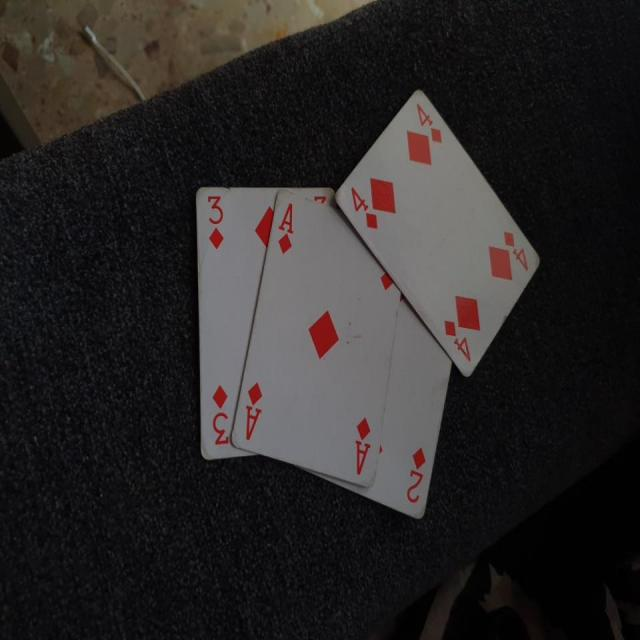2 Diamonds: (354, 298, 463, 525)
3 Diamonds: (191, 183, 342, 464)
4 Diamonds: (337, 87, 540, 383)
A Diamonds: (232, 189, 404, 482)
